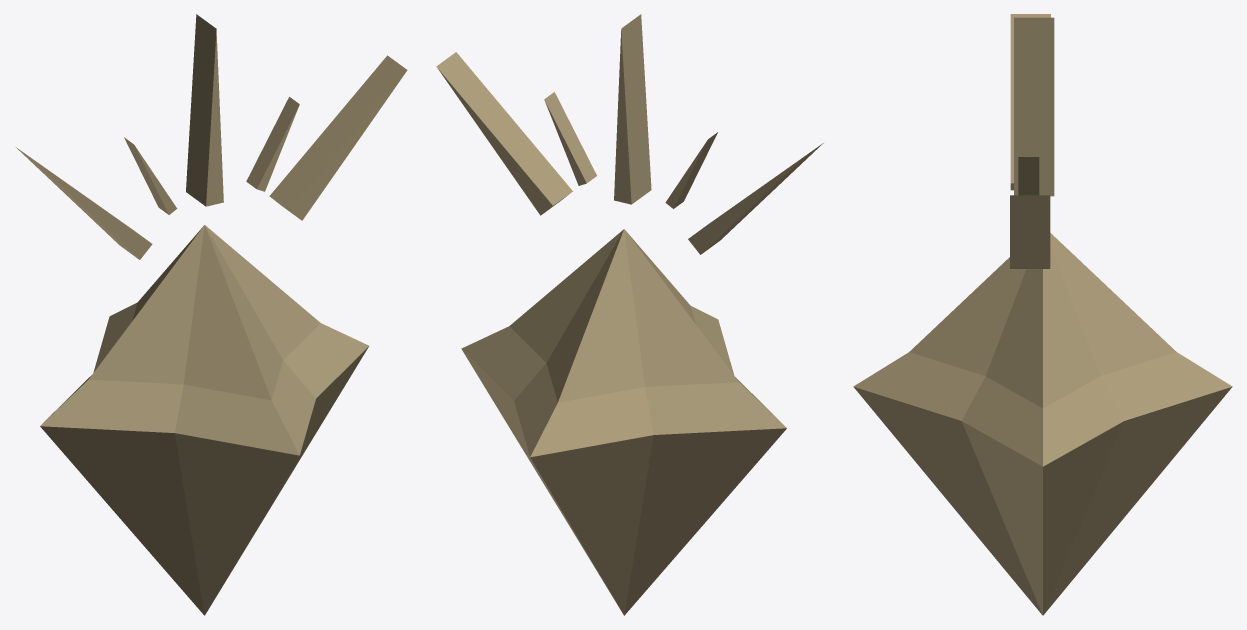
The model's file is upgrade_abilities.fbx.
3 views of the same model, side by side, from view 1: azimuth 30°, elevation 25°; view 2: azimuth 150°, elevation 25°; view 3: azimuth 270°, elevation 25° (orthographic).
Visible parts, largest first — view 1: polySurface45; view 2: polySurface45; view 3: polySurface45.
Boxes of the visible parts, x1=… form: polySurface45: x1=16, y1=14, x2=407, y2=615; polySurface45: x1=436, y1=14, x2=823, y2=615; polySurface45: x1=853, y1=14, x2=1232, y2=615.
Bounding box in the file's own units: 2.55 × 3.91 × 2.25.
